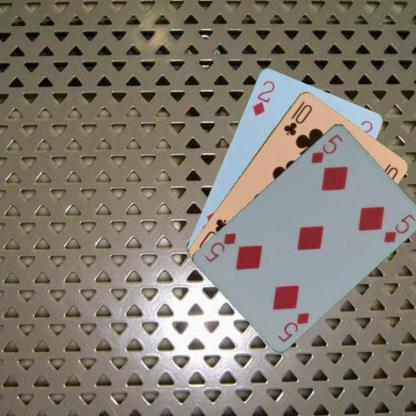10c: (281, 98, 314, 137)
2d: (250, 77, 276, 117)
5d: (308, 130, 344, 165), (274, 309, 311, 343)
